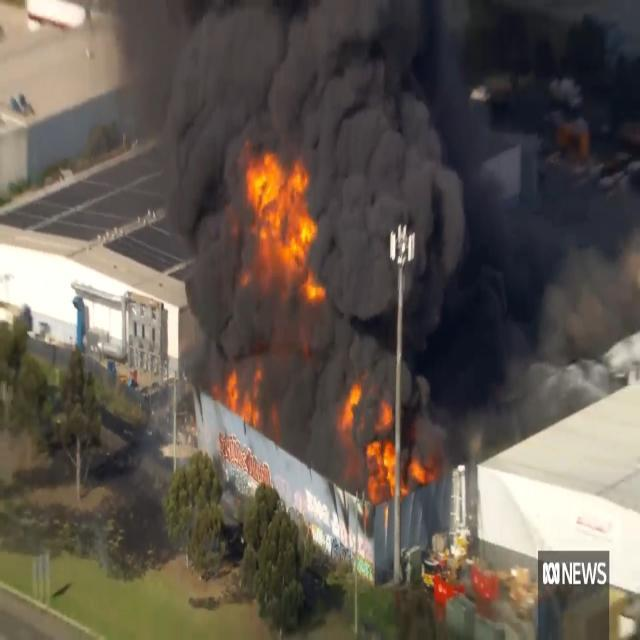fire: (232, 137, 319, 296), (339, 372, 432, 502), (220, 356, 268, 424)
